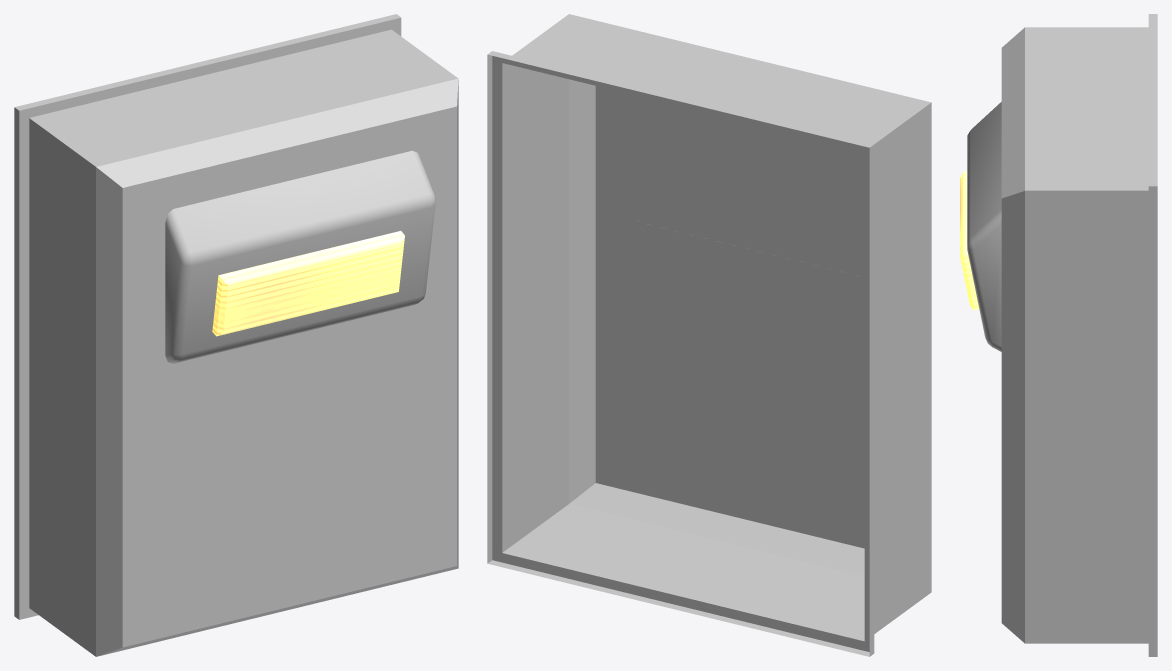
Rendered from KB3D_CBP_FuseBox_H.fbx.
The picture shows the model from 3 angles, left to right: view 1: azimuth 30°, elevation 25°; view 2: azimuth 150°, elevation 25°; view 3: azimuth 270°, elevation 25°; orthographic projection. The views are drawn at different scales.
Parts seen in each view (by area): view 1: KB3D_CBP_FuseBox_H_Main; view 2: KB3D_CBP_FuseBox_H_Main; view 3: KB3D_CBP_FuseBox_H_Main.
Boxes of the visible parts, x1,y1,x2,y2 form: KB3D_CBP_FuseBox_H_Main: (14, 14, 458, 656); KB3D_CBP_FuseBox_H_Main: (487, 14, 931, 656); KB3D_CBP_FuseBox_H_Main: (960, 14, 1157, 656).
Bounding box in the file's own units: 72.03 × 91.71 × 34.88.
